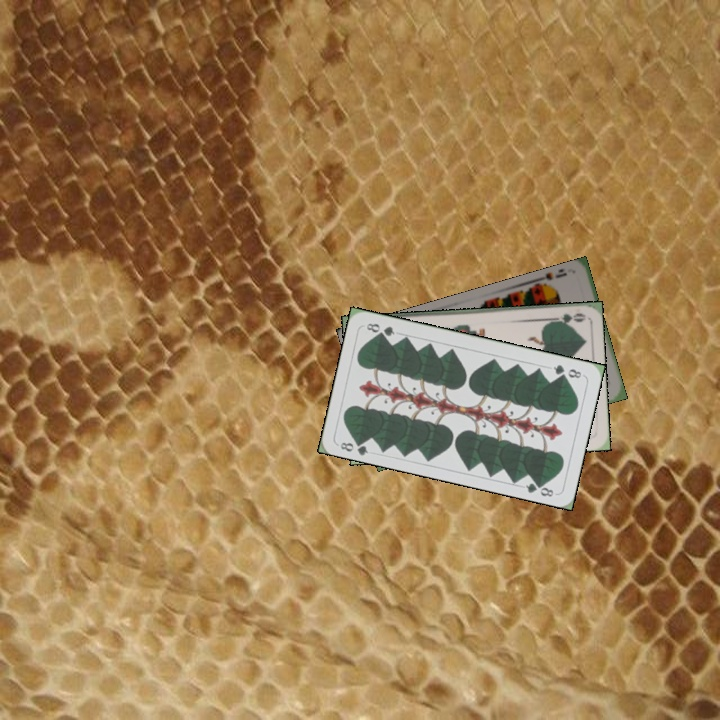G8: (336, 435, 371, 457), (549, 360, 584, 381)
GO: (546, 309, 586, 326)
S9: (534, 266, 569, 292)
